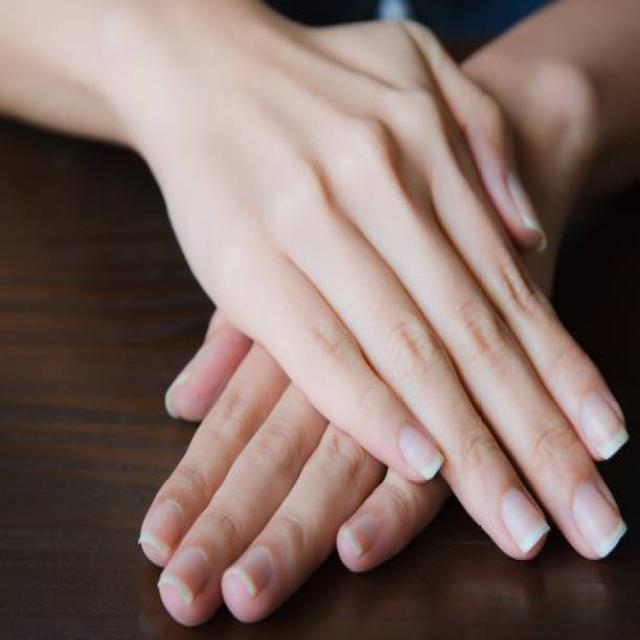Nail: (572, 484, 626, 558), (579, 394, 628, 458), (501, 488, 549, 552), (225, 542, 274, 596), (399, 426, 444, 479), (140, 499, 183, 551), (506, 172, 540, 232), (343, 513, 380, 555)
